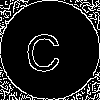C: (25, 25, 62, 72)
